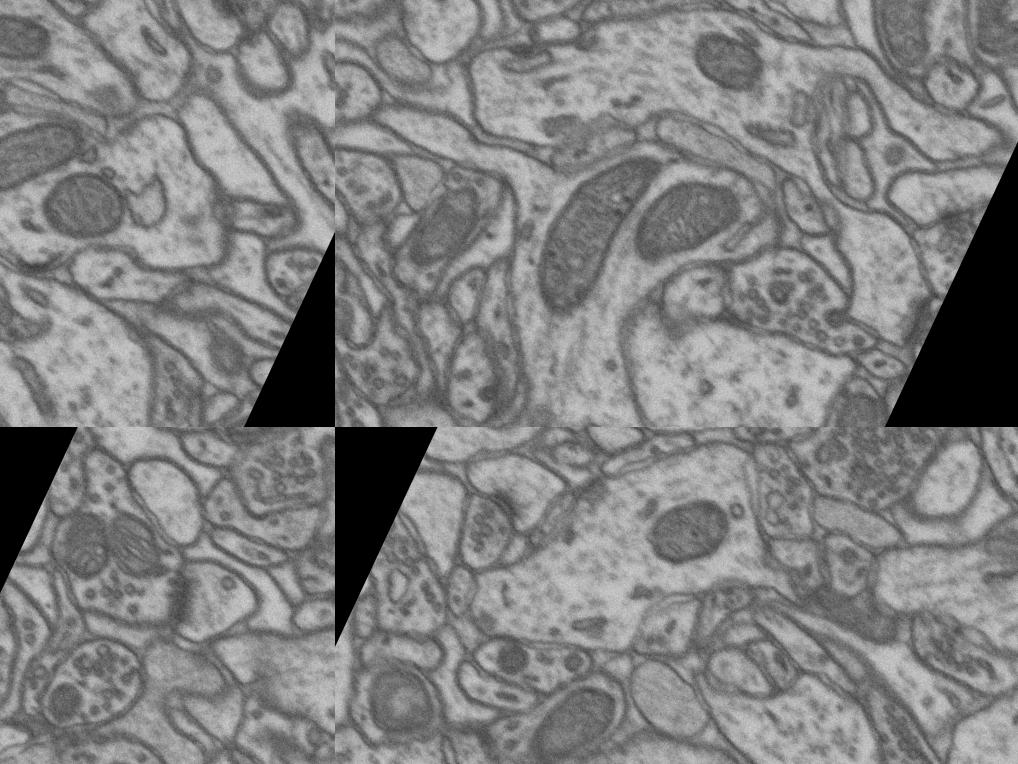mitochondria: (514, 131, 658, 329), (622, 155, 749, 290), (0, 80, 91, 253), (23, 147, 146, 264), (632, 470, 750, 590), (509, 658, 633, 764), (349, 648, 460, 759), (834, 0, 973, 79), (395, 172, 487, 282), (87, 500, 180, 590), (43, 498, 128, 590), (683, 19, 774, 104), (0, 0, 70, 92), (203, 427, 330, 467), (958, 0, 1018, 84), (479, 625, 545, 691), (819, 381, 895, 427), (190, 392, 253, 427)
